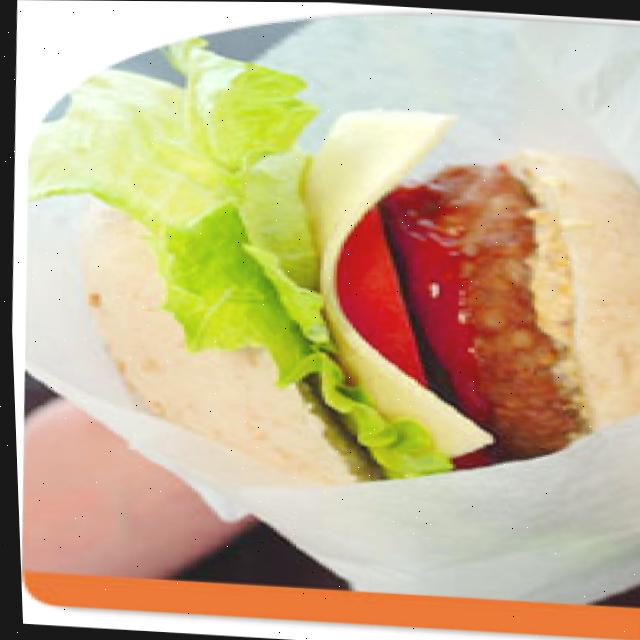汉堡快餐: (41, 105, 640, 502)
